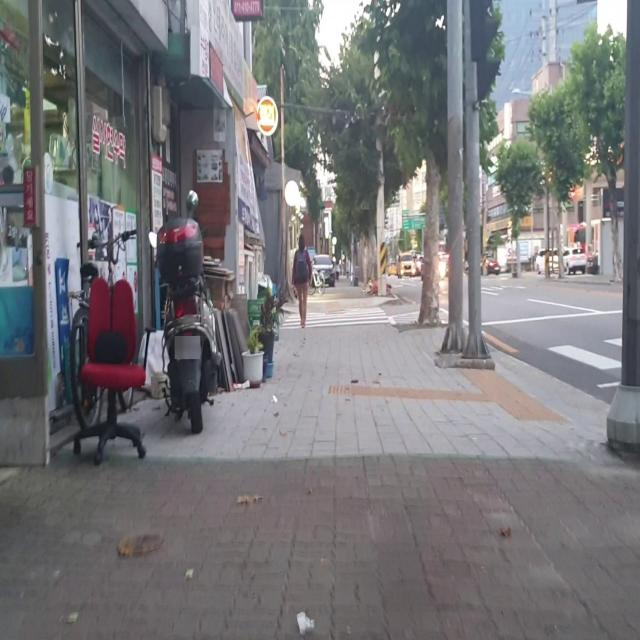횡단보도: (279, 306, 390, 330)
